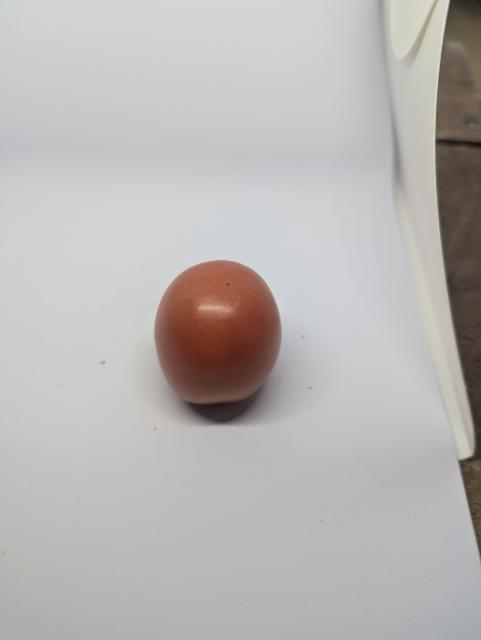red: (150, 255, 287, 410)
